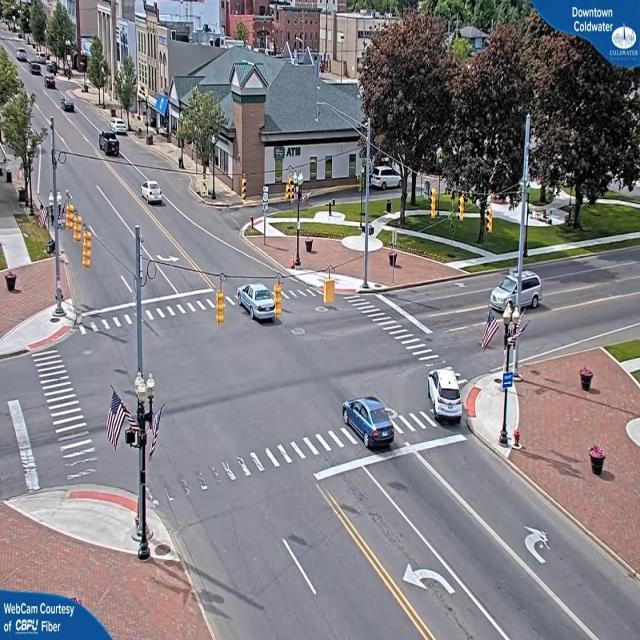car: (342, 398, 398, 452), (428, 369, 465, 425), (499, 268, 545, 313), (238, 284, 281, 320), (142, 181, 166, 207), (98, 130, 120, 157), (112, 119, 129, 137), (61, 98, 76, 114), (17, 51, 30, 64), (30, 62, 42, 76), (46, 77, 58, 91)
